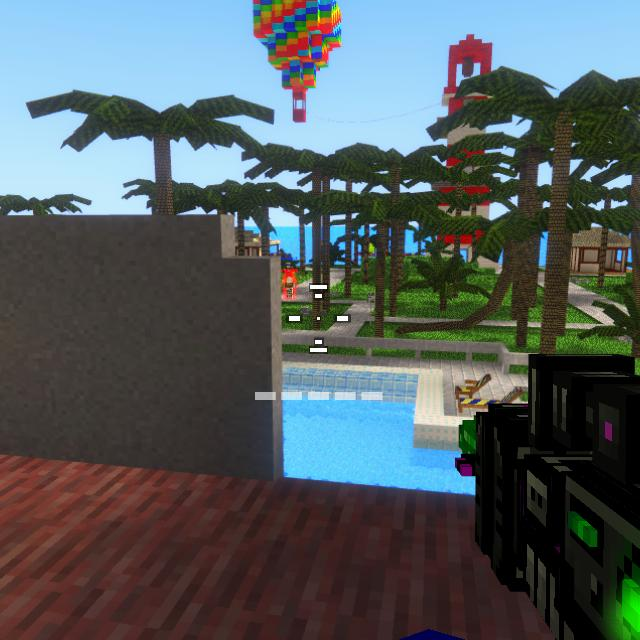Enemy: (281, 277, 296, 300)
